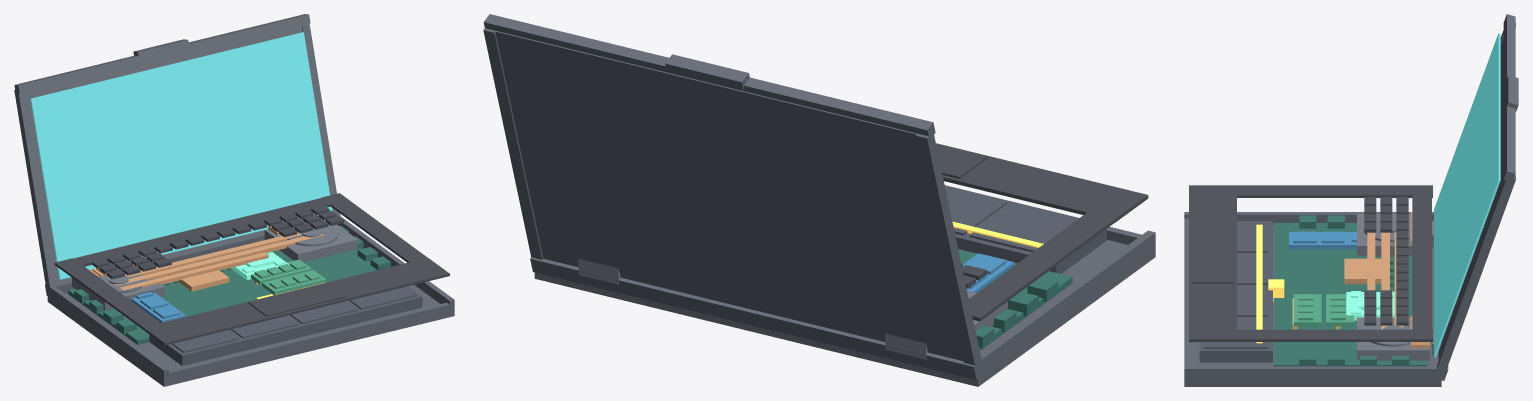
Rendered from laptop-opt.glb.
The picture shows the model from 3 angles, left to right: view 1: azimuth 30°, elevation 25°; view 2: azimuth 150°, elevation 25°; view 3: azimuth 270°, elevation 25°; orthographic projection. The views are drawn at different scales.
Parts seen in each view (by area): view 1: screen_panel_board, keyboard_trackpad_board, display_lid_board, motherboard_chassis_base, power_battery_pack_psu, motherboard_main_pcb, cpu_cooler_heatpipe_copper, cpu_fan_cooler_right, cpu_fan_cooler_left, ssd_nvme_storage_m2, ram_sodimm_memory_2, ram_sodimm_memory_1 (+1 smaller); view 2: display_lid_board, keyboard_trackpad_board, motherboard_chassis_base, power_battery_pack_psu, motherboard_main_pcb, hinge_assembly_board, ssd_nvme_storage_m2, power_battery_cable_psu; view 3: keyboard_trackpad_board, screen_panel_board, motherboard_main_pcb, motherboard_chassis_base, display_lid_board, power_battery_pack_psu, cpu_cooler_heatpipe_copper, cpu_fan_cooler_right, ssd_nvme_storage_m2, cpu_fan_cooler_left, power_battery_cable_psu, ram_sodimm_memory_2 (+2 smaller).
Boxes of the visible parts, x1,y1,x2,y2 form: screen_panel_board: (30,32,332,279); keyboard_trackpad_board: (54,193,449,345); display_lid_board: (14,14,340,296); motherboard_chassis_base: (47,216,454,386); power_battery_pack_psu: (149,286,422,365); motherboard_main_pcb: (68,225,390,344); cpu_cooler_heatpipe_copper: (89,215,325,291); cpu_fan_cooler_right: (264,224,357,262); cpu_fan_cooler_left: (72,266,164,310); ssd_nvme_storage_m2: (131,292,185,322); ram_sodimm_memory_2: (262,270,326,295); ram_sodimm_memory_1: (251,259,311,284); display_lid_board: (483,14,982,379); keyboard_trackpad_board: (936,143,1148,321); motherboard_chassis_base: (534,226,1155,386); power_battery_pack_psu: (944,185,1106,273); motherboard_main_pcb: (958,249,1072,350); hinge_assembly_board: (578,258,927,359); ssd_nvme_storage_m2: (963,253,1014,292); power_battery_cable_psu: (952,221,1043,247); keyboard_trackpad_board: (1189,185,1432,341); screen_panel_board: (1434,33,1500,357); motherboard_main_pcb: (1273,215,1427,366); motherboard_chassis_base: (1184,212,1441,386); display_lid_board: (1436,14,1518,380); power_battery_pack_psu: (1199,221,1272,362); cpu_cooler_heatpipe_copper: (1344,212,1430,348); cpu_fan_cooler_right: (1357,317,1430,360); ssd_nvme_storage_m2: (1289,231,1356,249); cpu_fan_cooler_left: (1357,213,1412,256); power_battery_cable_psu: (1256,224,1284,343); ram_sodimm_memory_2: (1293,294,1321,326).
Bounding box in the file's own units: 10.4 × 6.89 × 9.35.
